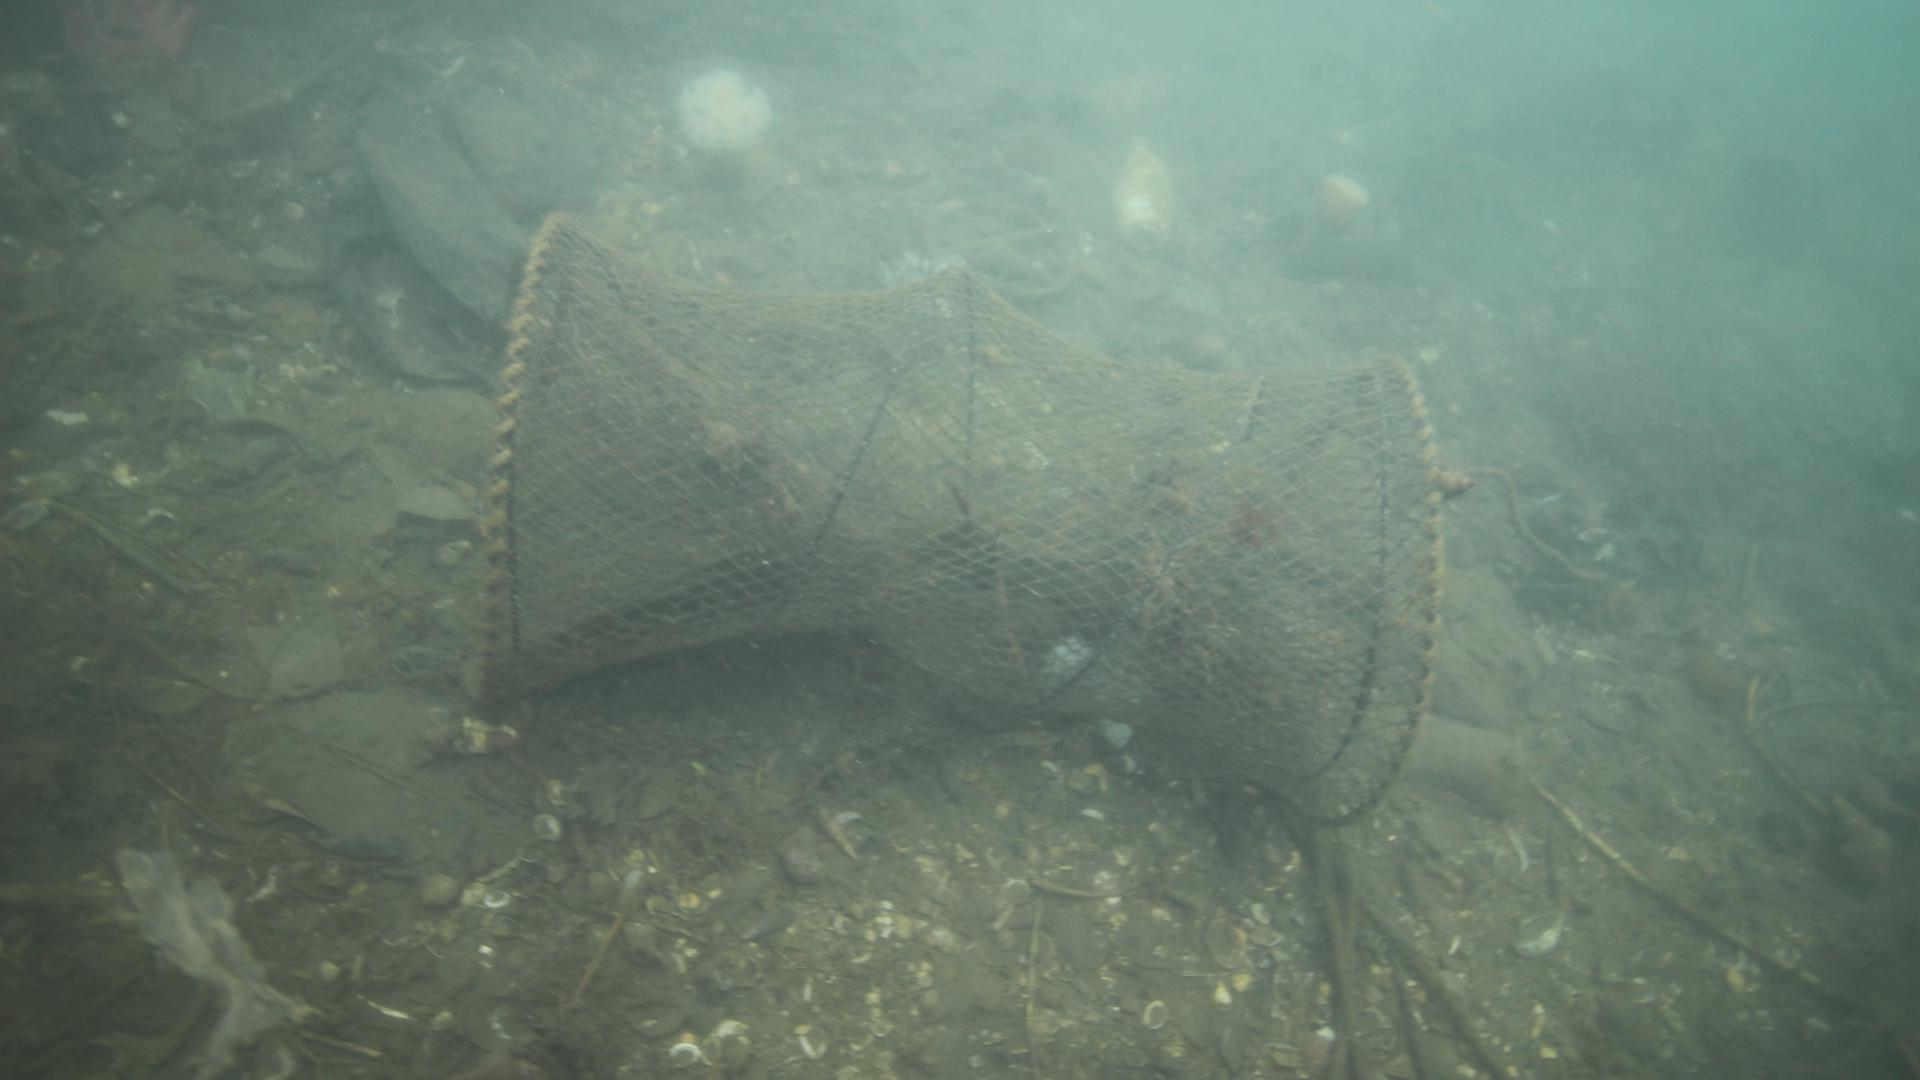spring fish trap: (473, 211, 1447, 825)
